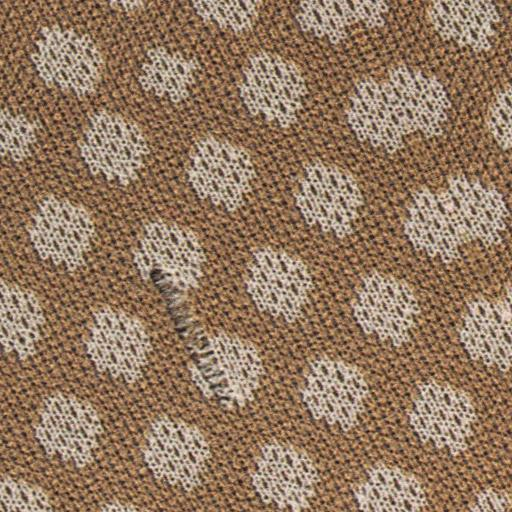slub: (140, 250, 255, 432)
